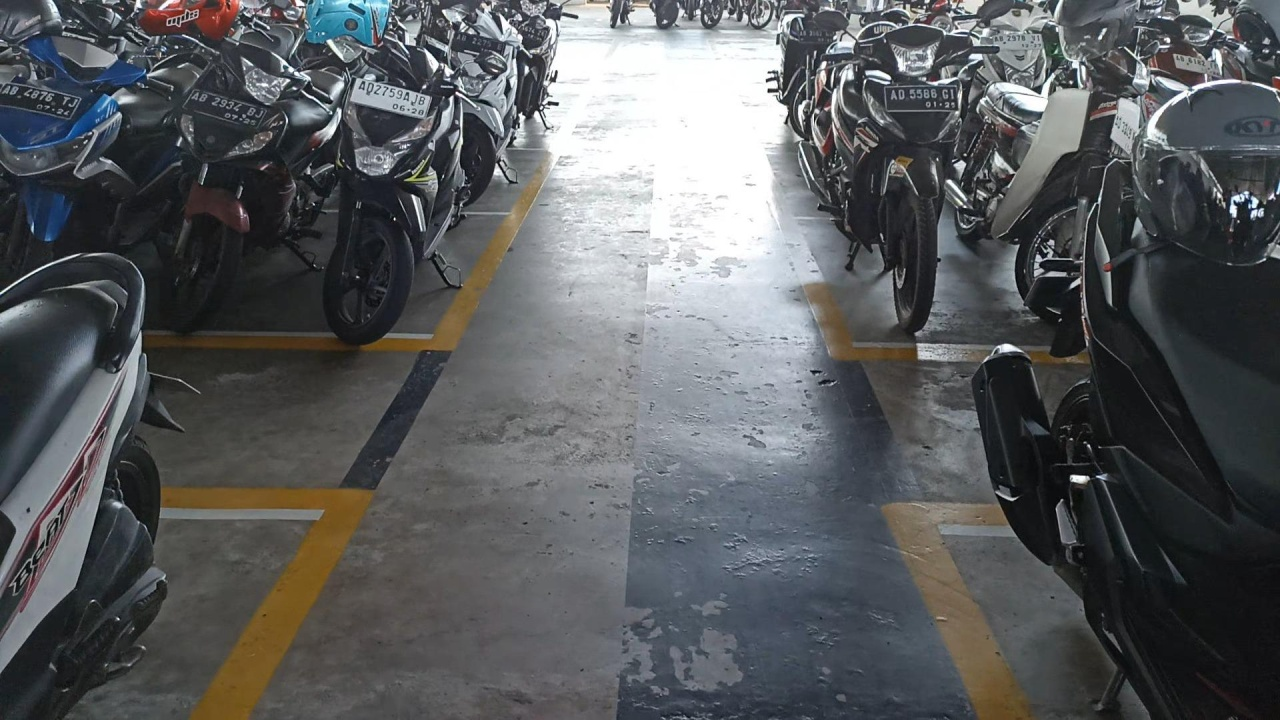plate: (348, 77, 433, 119), (181, 89, 268, 129), (0, 83, 82, 120), (885, 85, 959, 112)
